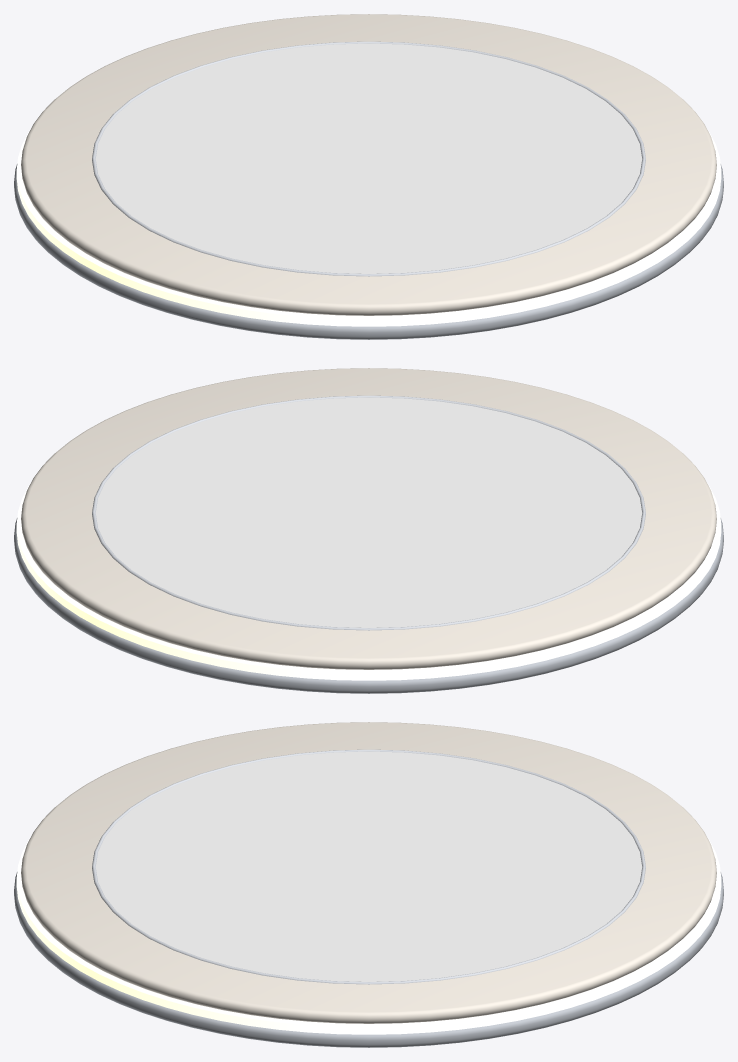
Rendered from podium.glb.
The picture shows the model from 3 angles, top to bottom: view 1: azimuth 30°, elevation 25°; view 2: azimuth 150°, elevation 25°; view 3: azimuth 270°, elevation 25°; orthographic projection.
Parts seen in each view (by area): view 1: podium; view 2: podium; view 3: podium.
Part boxes in pixels (left/top/right/bottom): podium: left=14, top=14, right=723, bottom=339; podium: left=14, top=368, right=723, bottom=693; podium: left=14, top=722, right=723, bottom=1047.
Bounding box in the file's own units: 4 × 0.209 × 4.
